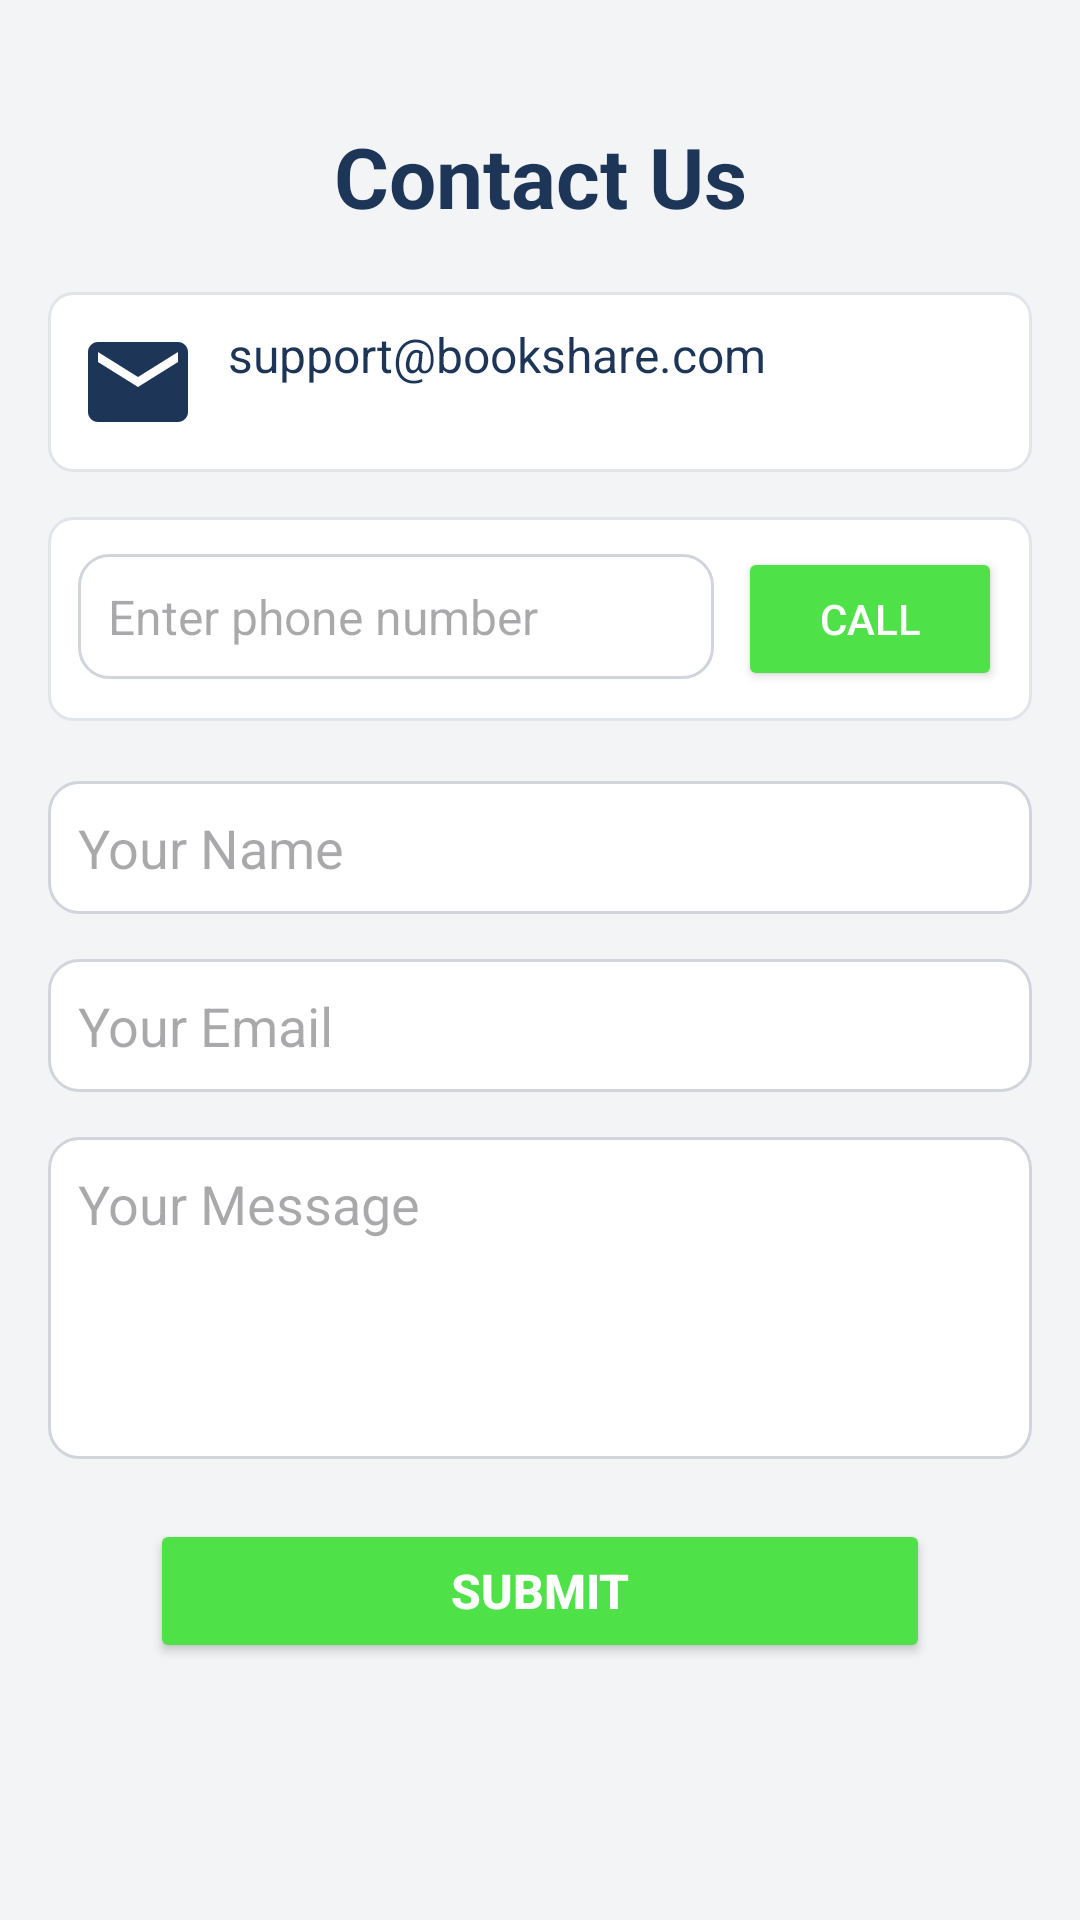

Named icons in this screenshot (1080w x 1920h) and their bounding boxes, rect(x1, y1, x2, y2):
Email Icon: rect(88, 342, 188, 422)
